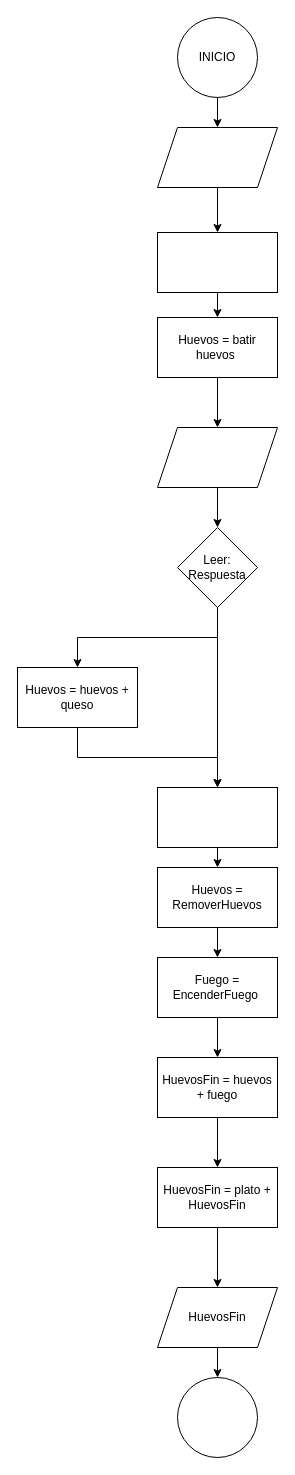
Image size: 295x1475. Some labels were removed from this diagram. The shapes that lost their labels are listed below. From the top down, each one's box as (x1, y1, x2, y2) in pixels, then its label:
(156, 126, 278, 188): Datos:huevos, sal, Fuego, sartén, queso, bowl, plato
(156, 232, 278, 292): Huevos = bowl + huevos
(156, 426, 278, 488): Escribir: ¿Quiere queso?
(156, 786, 278, 848): Huevos = huevos + sal
(176, 1376, 258, 1458): FIN
